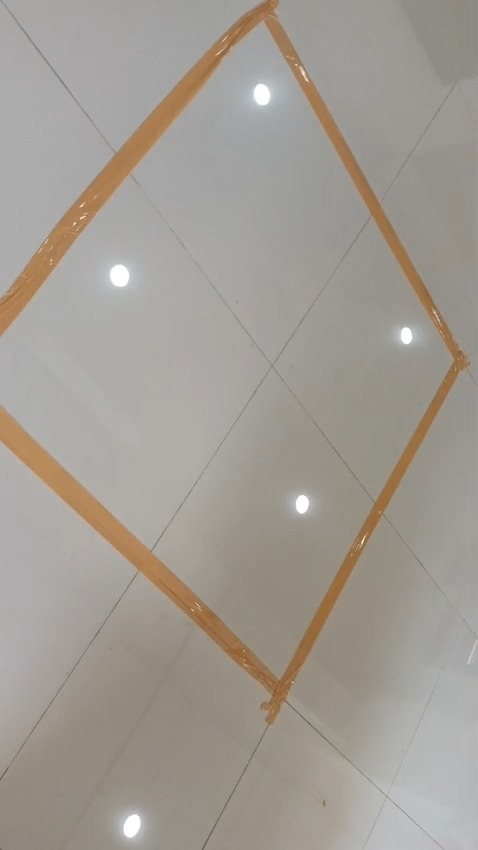floor marking: (0, 0, 468, 722)
